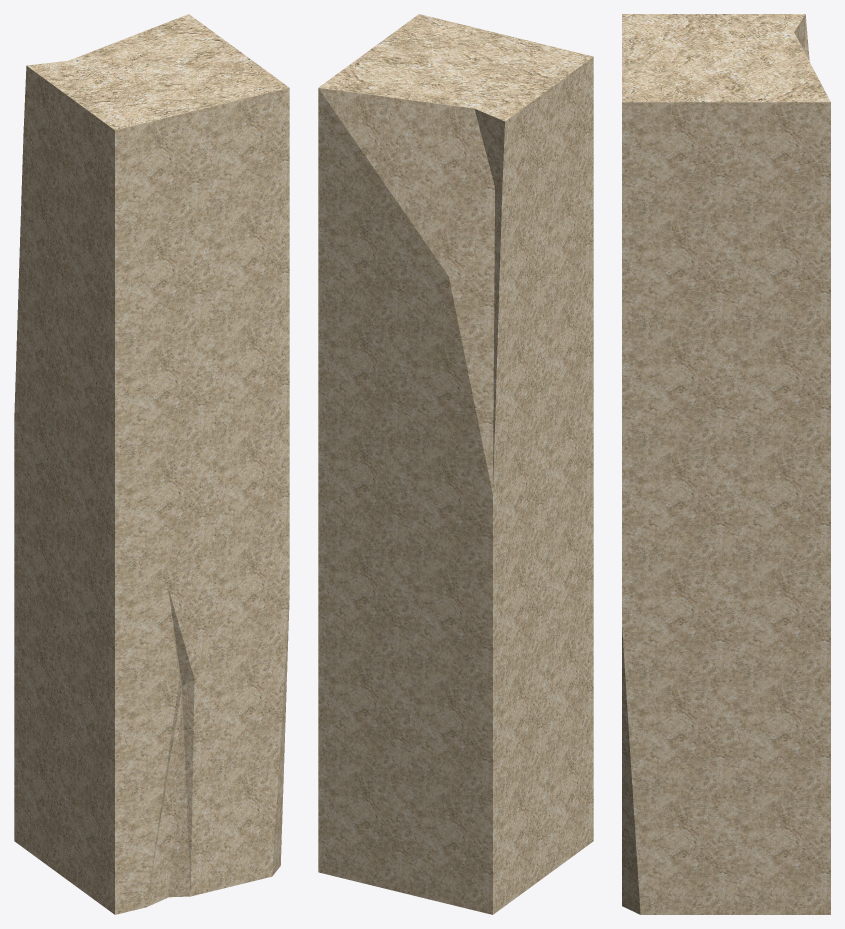
File: thm_tato_imprv_pillar_damaged_s01_l1.fbx
3 renders of one model, left to right at view 1: azimuth 30°, elevation 25°; view 2: azimuth 150°, elevation 25°; view 3: azimuth 270°, elevation 25°, orthographic. The views are drawn at different scales.
Visible parts, largest first — view 1: mesh_node; view 2: mesh_node; view 3: mesh_node.
Part boxes in pixels (x1,y1,x2,y2): mesh_node: (14,14,289,914); mesh_node: (318,14,593,914); mesh_node: (622,14,830,914).
Size of the model in its own units: 1 by 4.29 by 1.
